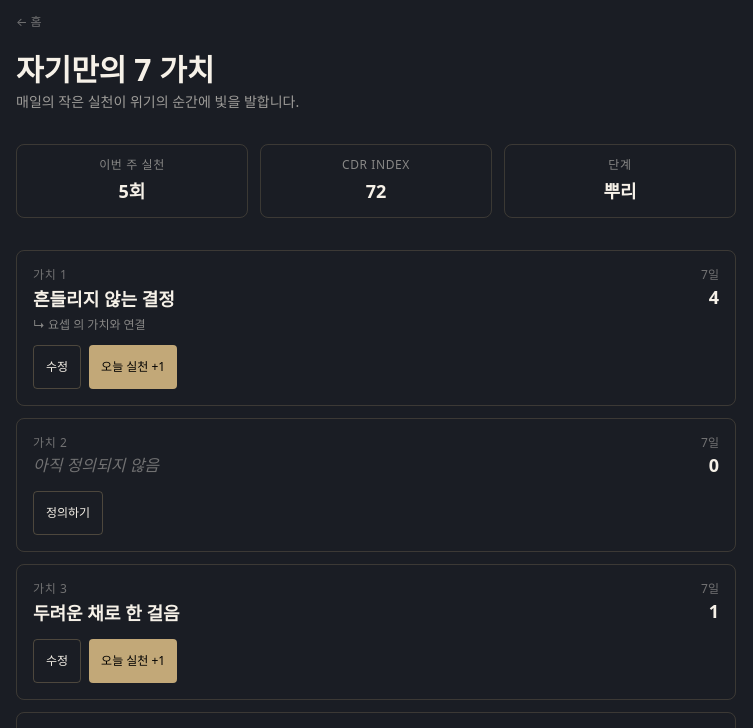
Scenario: 가치 정의·수정 폼 › 수정을 열면 기존 값이 채워져 있다 — 다시 타이핑하게 만들지 않는다
Click the button "수정" below "요셉" at (57, 367), box x1=33 y1=345 x2=81 y2=389
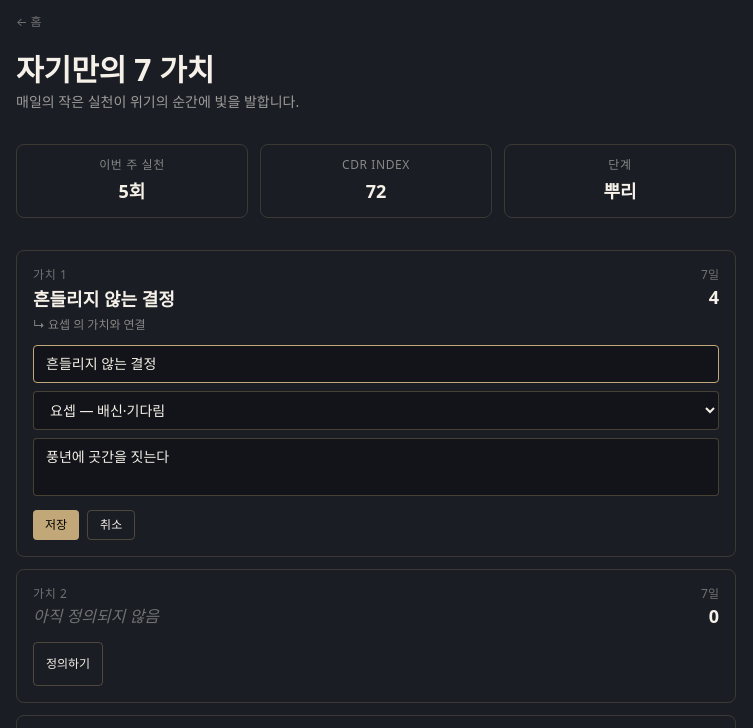
Expected: the field with placeholder "예: 흔들리지 않는 결정" holds "흔들리지 않는 결정", x1=33 y1=345 x2=719 y2=383
Expected: the dropdown shows "요셉 — 배신·기다림", x1=33 y1=391 x2=719 y2=430
Expected: the text box with placeholder "메모 (선택)" holds "풍년에 곳간을 짓는다", x1=33 y1=438 x2=719 y2=496
